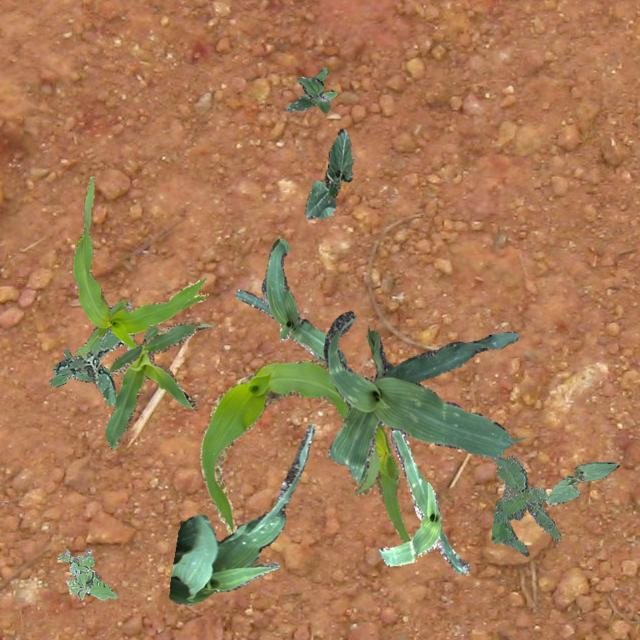crop: (198, 358, 410, 542), (322, 310, 520, 482), (168, 423, 314, 604), (72, 175, 206, 356), (234, 238, 346, 362), (104, 322, 210, 448), (378, 428, 468, 572), (304, 128, 352, 218), (546, 461, 618, 504)
weed: (54, 300, 130, 404), (491, 454, 558, 554), (56, 548, 116, 598), (48, 348, 112, 386), (286, 66, 336, 112)
